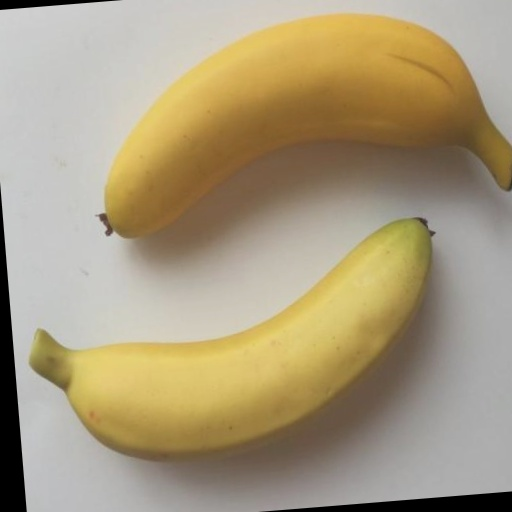fruit: (31, 219, 431, 459), (105, 14, 512, 236)
